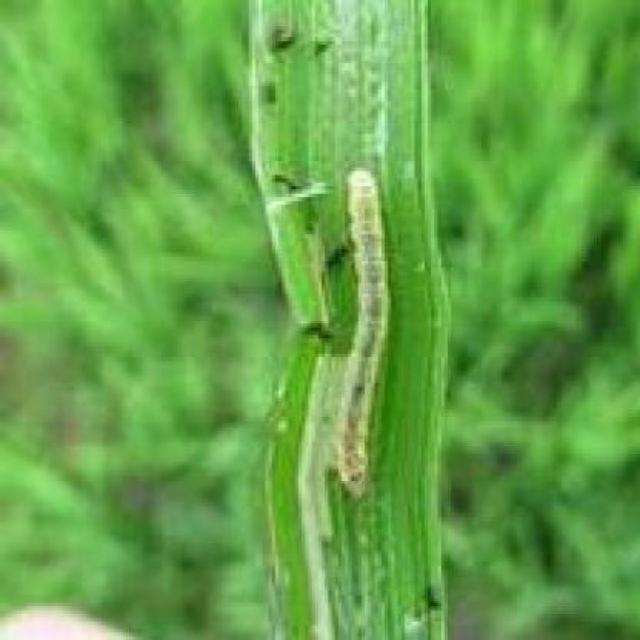leaf-folder: (313, 153, 395, 502)
